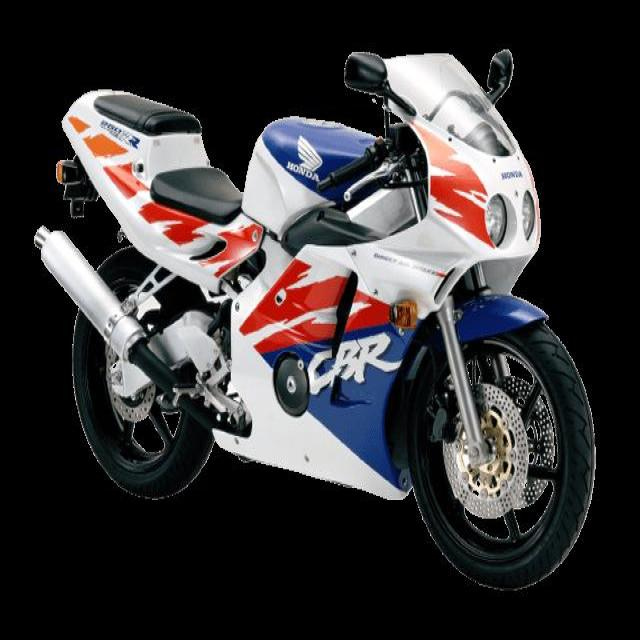motorcycle: (38, 55, 590, 589)
